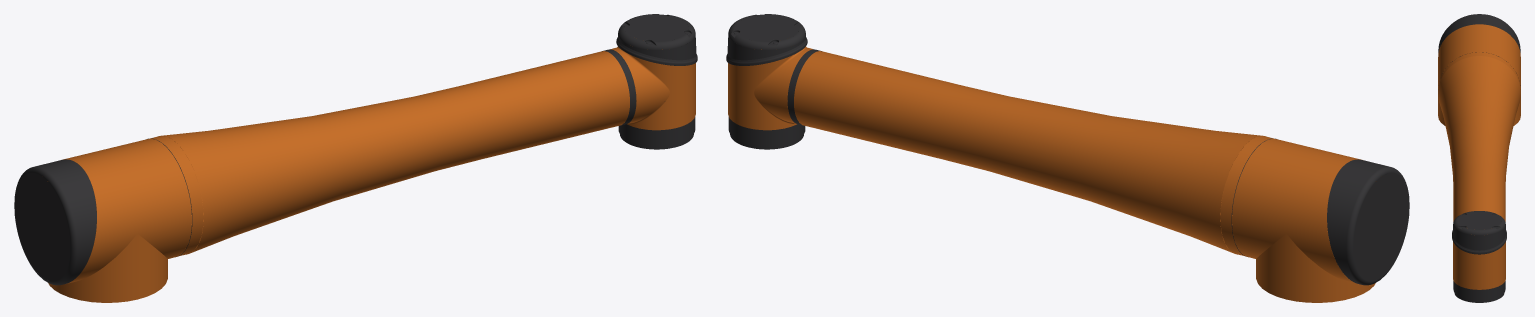
3 renders of one model, left to right at view 1: azimuth 30°, elevation 25°; view 2: azimuth 150°, elevation 25°; view 3: azimuth 270°, elevation 25°, orthographic. The views are drawn at different scales.
Visible parts, largest first — view 1: NONE-DC_Shell_ncl1_12, NONE-DC_Shell, NONE-DC_Shell_ncl1_7, NONE-DC_Shell_ncl1_11, NONE-DC_Shell_ncl1_5, NONE-DC_Shell_ncl1_9, NONE-DC_Shell_ncl1_8; view 2: NONE-DC_Shell_ncl1_12, NONE-DC_Shell, NONE-DC_Shell_ncl1_7, NONE-DC_Shell_ncl1_11, NONE-DC_Shell_ncl1_5, NONE-DC_Shell_ncl1_9, NONE-DC_Shell_ncl1_8; view 3: NONE-DC_Shell_ncl1_12, NONE-DC_Shell, NONE-DC_Shell_ncl1_5, NONE-DC_Shell_ncl1_11, NONE-DC_Shell_ncl1_7, NONE-DC_Shell_ncl1_9.
Boxes of the visible parts, x1,y1,x2,y2 form: NONE-DC_Shell_ncl1_12: (150,51,629,255); NONE-DC_Shell: (47,138,191,302); NONE-DC_Shell_ncl1_7: (14,159,96,285); NONE-DC_Shell_ncl1_11: (611,46,695,130); NONE-DC_Shell_ncl1_5: (616,14,697,65); NONE-DC_Shell_ncl1_9: (618,117,695,149); NONE-DC_Shell_ncl1_8: (602,49,635,125); NONE-DC_Shell_ncl1_12: (794,51,1273,255); NONE-DC_Shell: (1232,138,1376,302); NONE-DC_Shell_ncl1_7: (1327,159,1409,285); NONE-DC_Shell_ncl1_11: (728,46,812,130); NONE-DC_Shell_ncl1_5: (726,14,807,65); NONE-DC_Shell_ncl1_9: (728,117,805,149); NONE-DC_Shell_ncl1_8: (788,49,821,125); NONE-DC_Shell_ncl1_12: (1438,52,1520,221); NONE-DC_Shell: (1438,24,1520,125); NONE-DC_Shell_ncl1_5: (1452,211,1506,254); NONE-DC_Shell_ncl1_11: (1453,242,1505,289); NONE-DC_Shell_ncl1_7: (1438,14,1520,56); NONE-DC_Shell_ncl1_9: (1453,281,1505,302).
Size of the model in its own units: 1.13 by 0.184 by 0.202.
